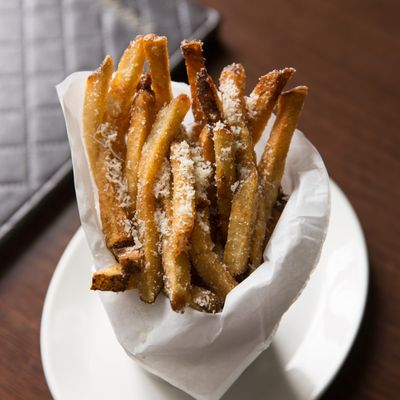soup: (76, 33, 310, 327)
